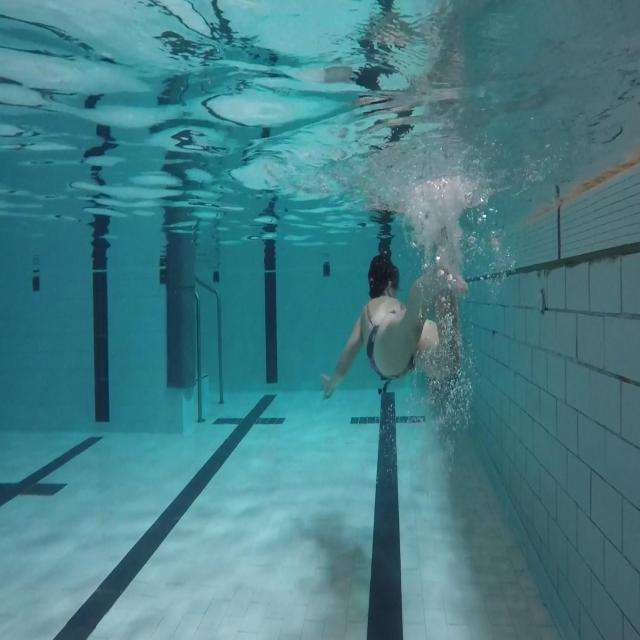human: (320, 251, 462, 400)
